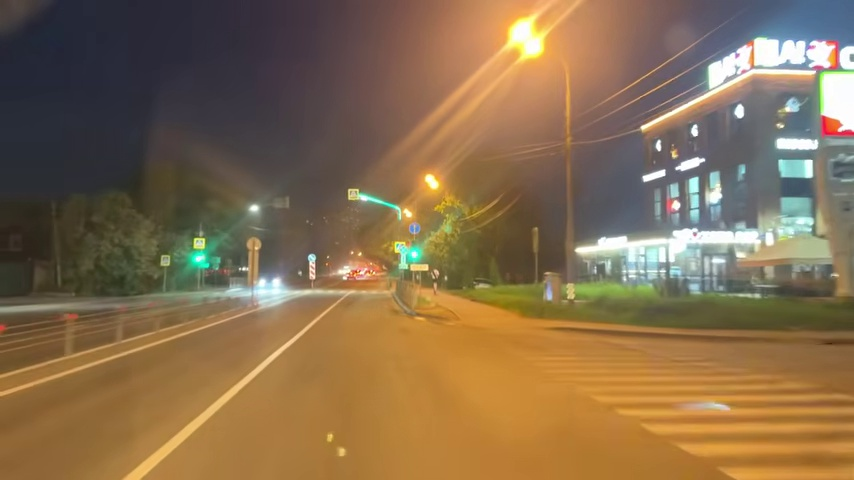acesa: (501, 11, 555, 66), (419, 170, 445, 196), (245, 201, 262, 219)
